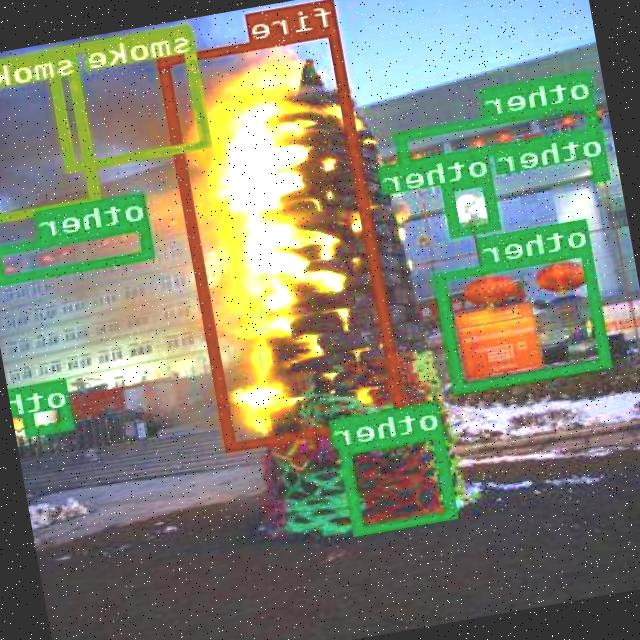fire: (160, 26, 408, 450)
smoke: (47, 21, 214, 169), (0, 44, 103, 222)
